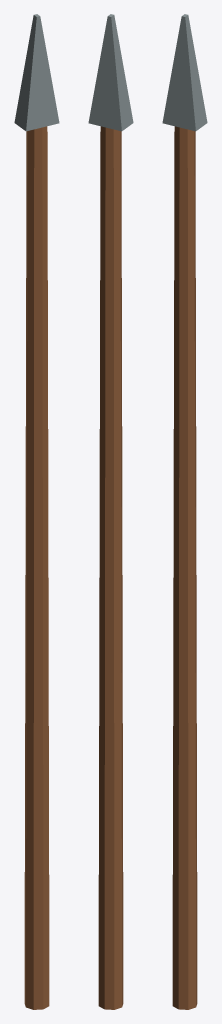
Rendered from wk_prop_spear_v01.glb.
3 views of the same model, side by side, from view 1: azimuth 30°, elevation 25°; view 2: azimuth 150°, elevation 25°; view 3: azimuth 330°, elevation 25° (orthographic).
Parts seen in each view (by area): view 1: GEO_spear_Shaft, GEO_SpearHead; view 2: GEO_spear_Shaft, GEO_SpearHead; view 3: GEO_spear_Shaft, GEO_SpearHead.
Part boxes in pixels (box(x1,y1,x2,y2)): GEO_spear_Shaft: box(24, 126, 49, 1009); GEO_SpearHead: box(14, 14, 59, 131); GEO_spear_Shaft: box(98, 126, 123, 1009); GEO_SpearHead: box(88, 14, 133, 131); GEO_spear_Shaft: box(172, 126, 197, 1009); GEO_SpearHead: box(162, 14, 207, 131).
Bounding box in the file's own units: 0.075 × 2.11 × 0.05.
